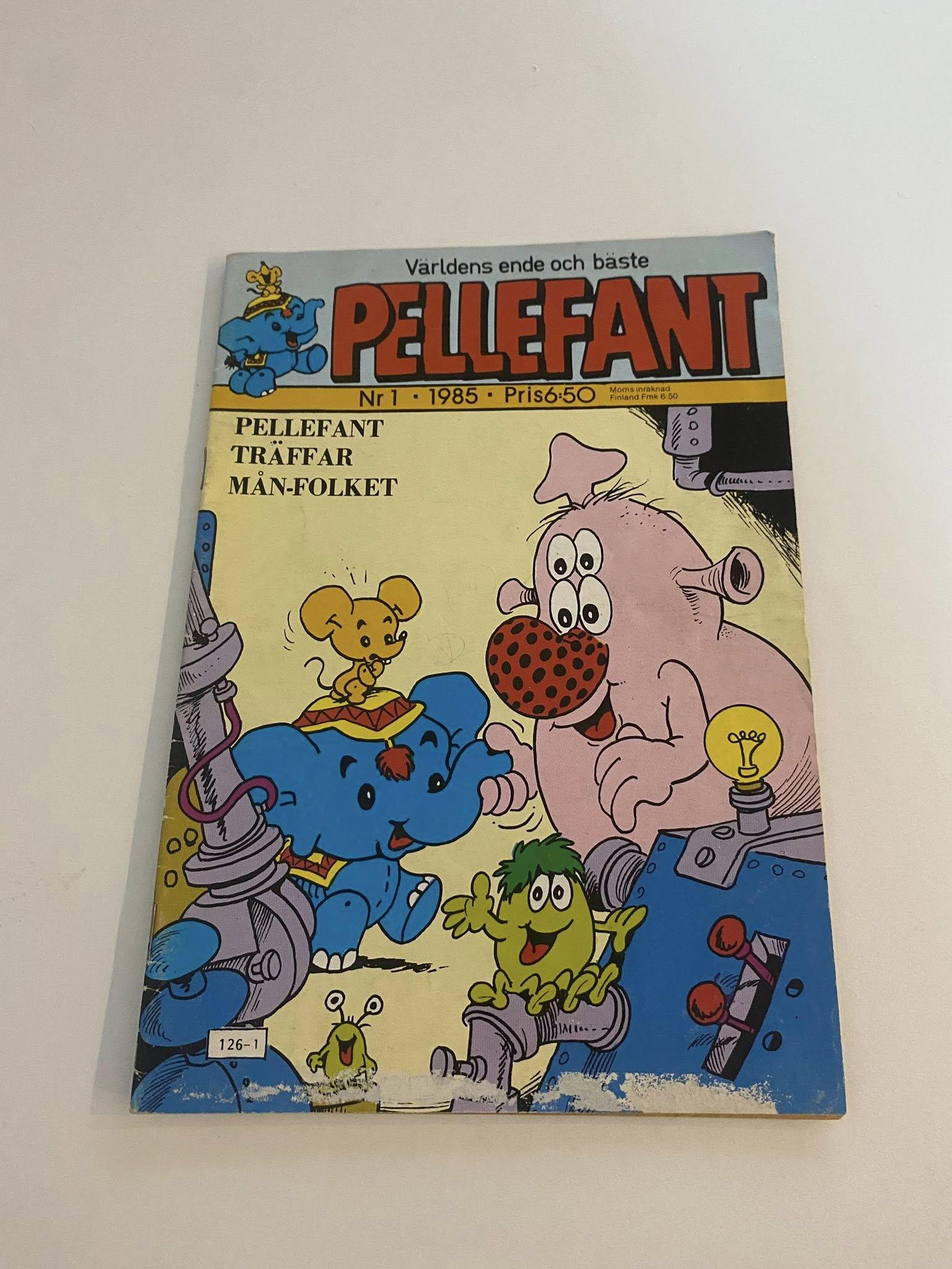comic: (133, 230, 849, 1115)
